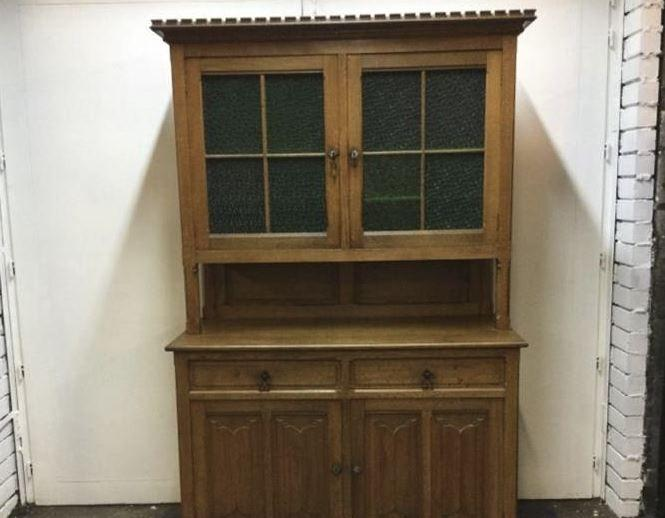cabinet_door: (348, 54, 500, 246), (193, 58, 345, 246), (347, 397, 504, 518), (192, 398, 344, 516), (352, 359, 508, 393), (186, 357, 342, 390)
handle: (255, 369, 276, 388), (421, 368, 438, 386), (327, 147, 340, 165), (351, 145, 362, 166), (331, 462, 343, 480), (352, 462, 364, 480)
